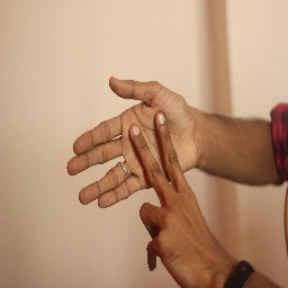N: (62, 75, 214, 259)
